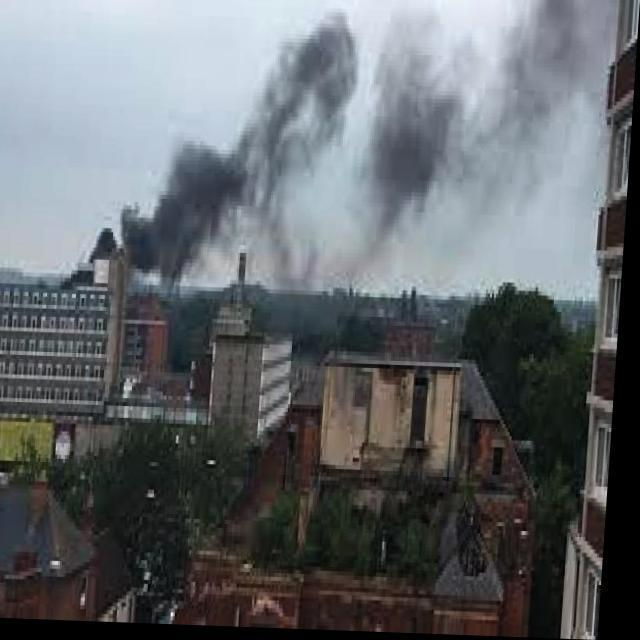Smoke: (84, 0, 640, 330)
